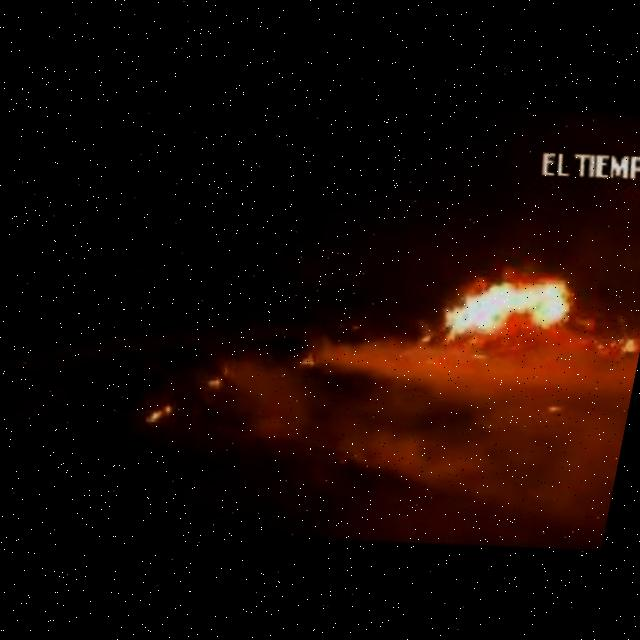fire: (392, 235, 598, 389), (144, 398, 180, 426)
